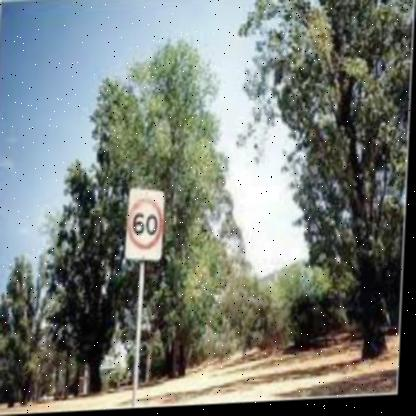Speed Limit -60-: (128, 198, 167, 251)
